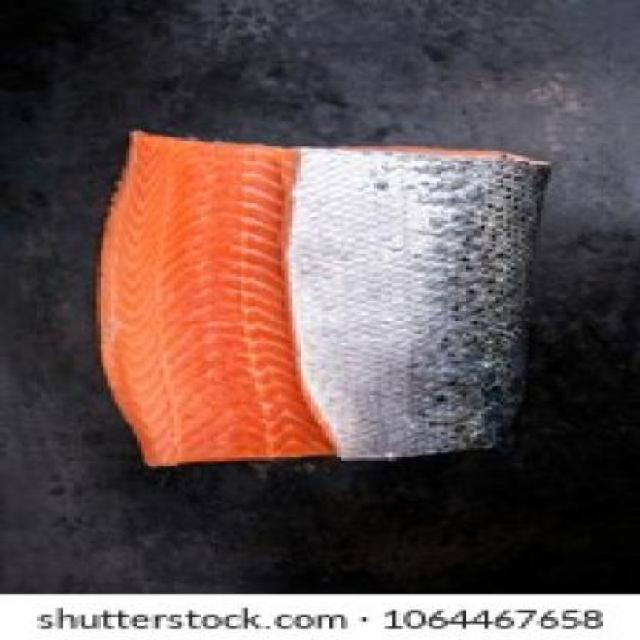salmon: (63, 122, 307, 480)
